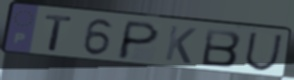6: (83, 17, 115, 57)
B: (200, 27, 244, 69)
K: (162, 24, 199, 66)
P: (114, 19, 162, 62)
T: (43, 13, 74, 53)
U: (242, 31, 285, 73)
